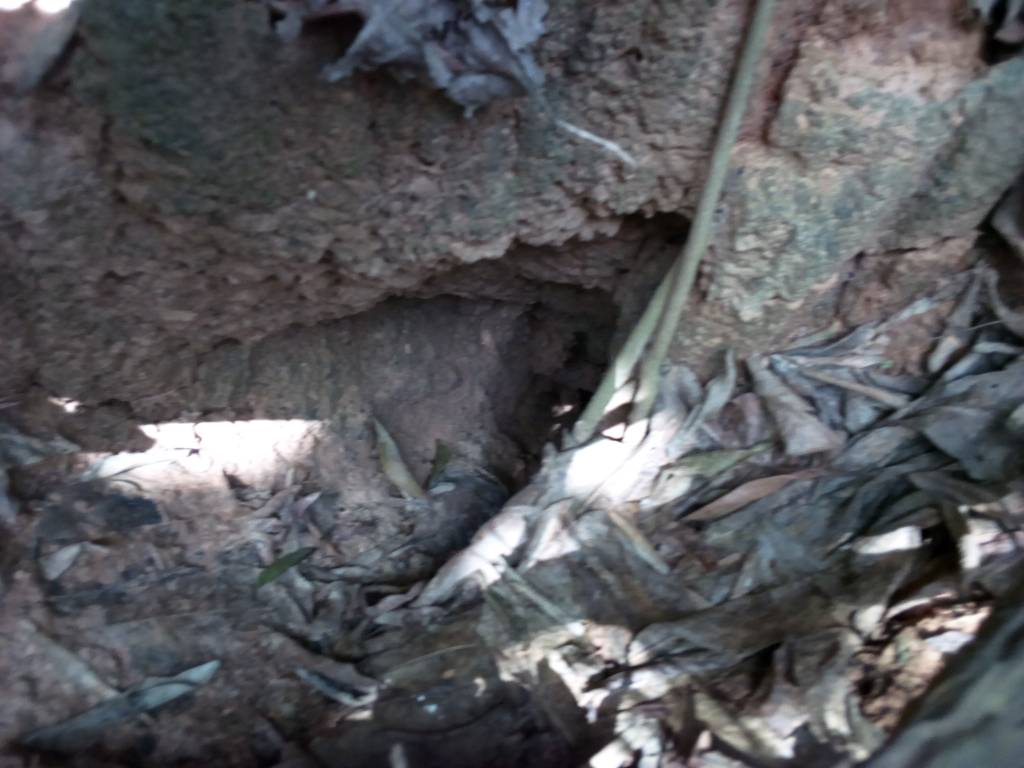Termites: (47, 1, 728, 365)
